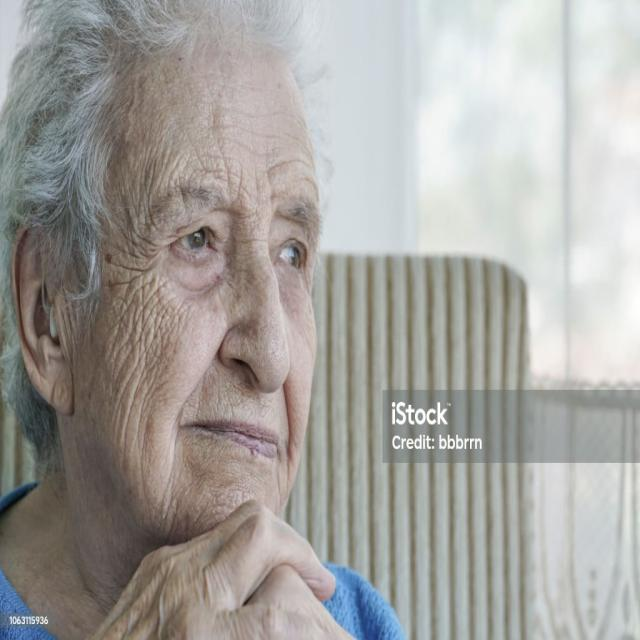Dry-Skin: (96, 219, 178, 422), (208, 87, 297, 180), (249, 270, 313, 380)
